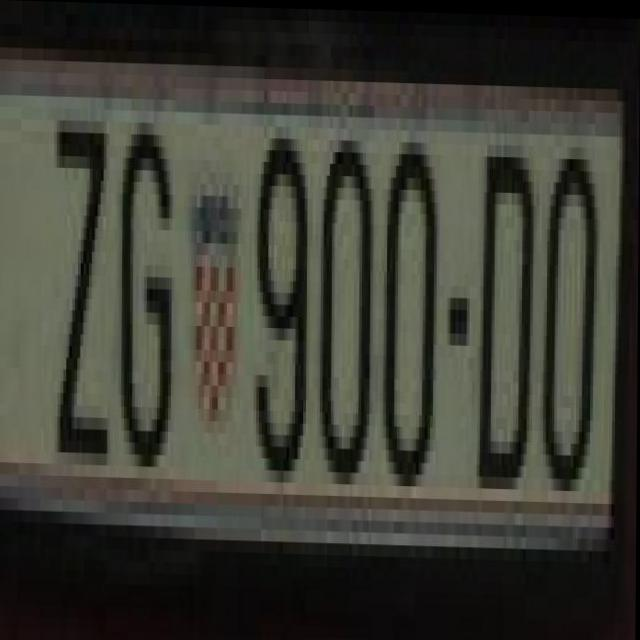0: (383, 115, 438, 485), (543, 131, 598, 476), (317, 126, 369, 471)
9: (248, 88, 306, 470)
D: (474, 118, 529, 487)
G: (119, 109, 176, 479)
Z: (52, 84, 113, 465)
